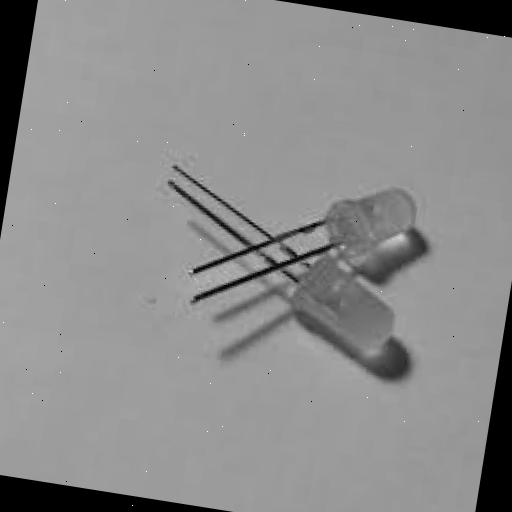LED: (235, 140, 453, 300), (256, 238, 440, 414)
